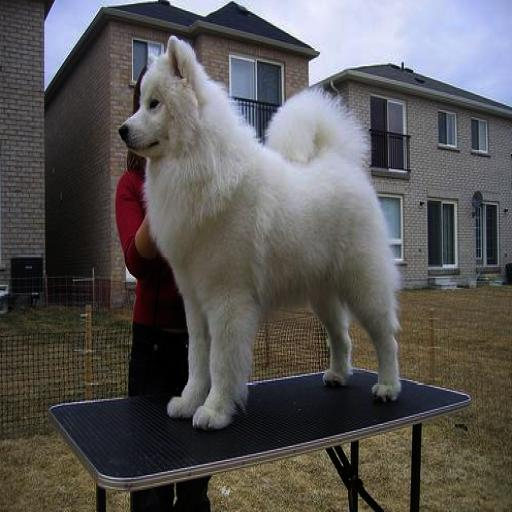dog_face: (116, 48, 202, 169)
